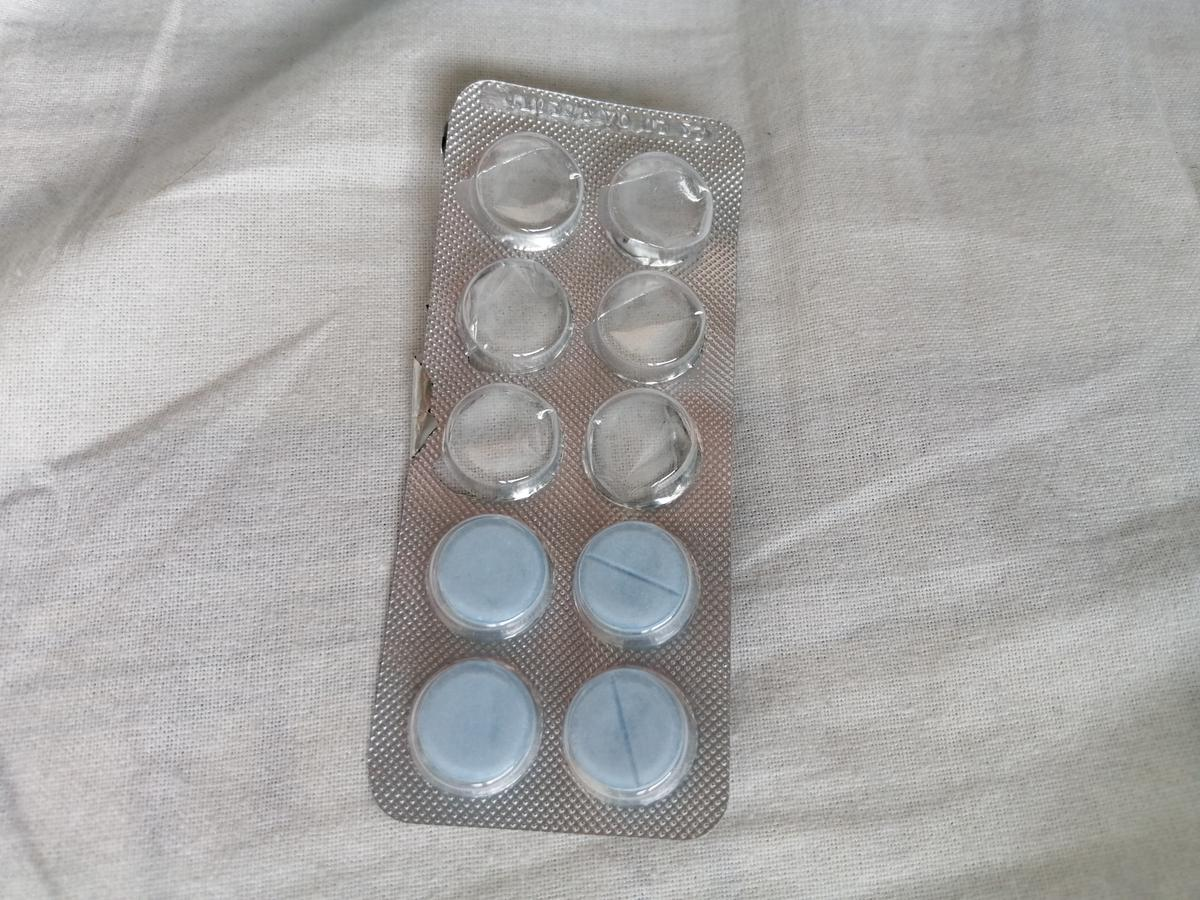tablet: (563, 666, 692, 801), (422, 510, 551, 638), (413, 660, 541, 786), (577, 520, 693, 645)
